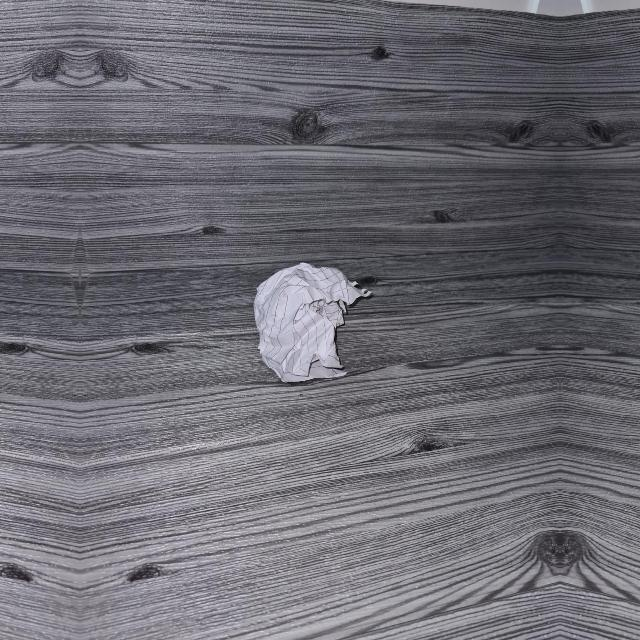paper: (249, 258, 369, 382)
